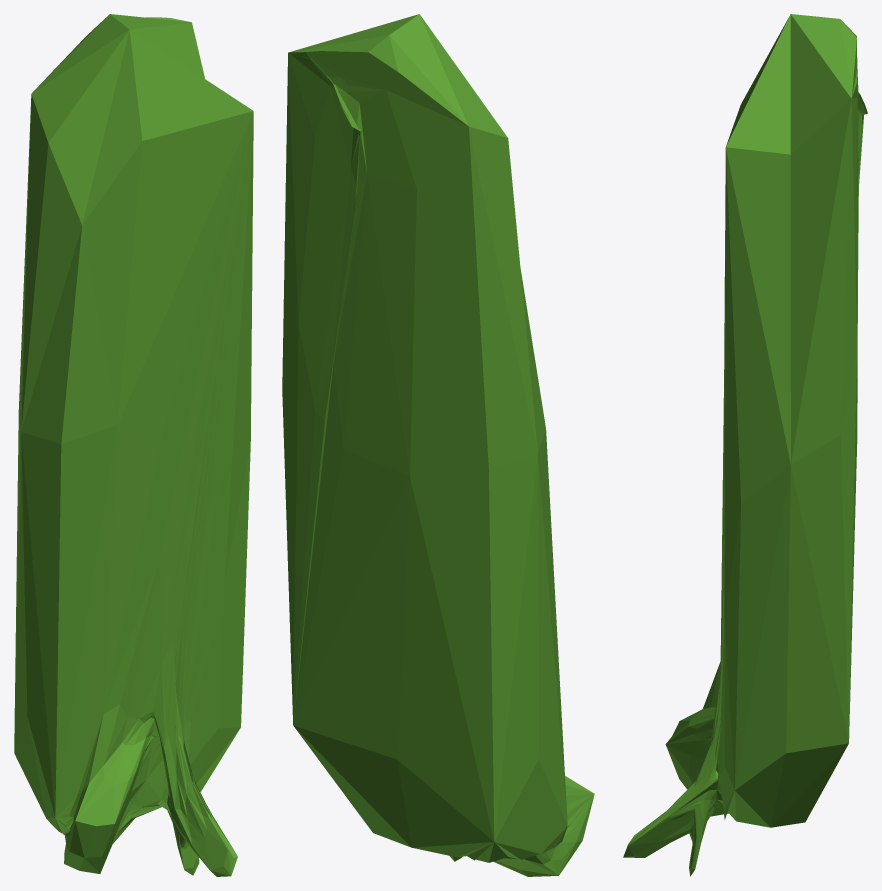
3 views of the same model, side by side, from view 1: azimuth 30°, elevation 25°; view 2: azimuth 150°, elevation 25°; view 3: azimuth 270°, elevation 25° (orthographic). The views are drawn at different scales.
Parts seen in each view (by area): view 1: 278_Cube.1137; view 2: 278_Cube.1137; view 3: 278_Cube.1137.
Boxes of the visible parts, box(x1,y1,x2,y2) form: 278_Cube.1137: box(14, 14, 253, 876); 278_Cube.1137: box(282, 14, 594, 876); 278_Cube.1137: box(623, 14, 867, 876).
Bounding box in the file's own units: 3.62 × 12.96 × 3.36.
